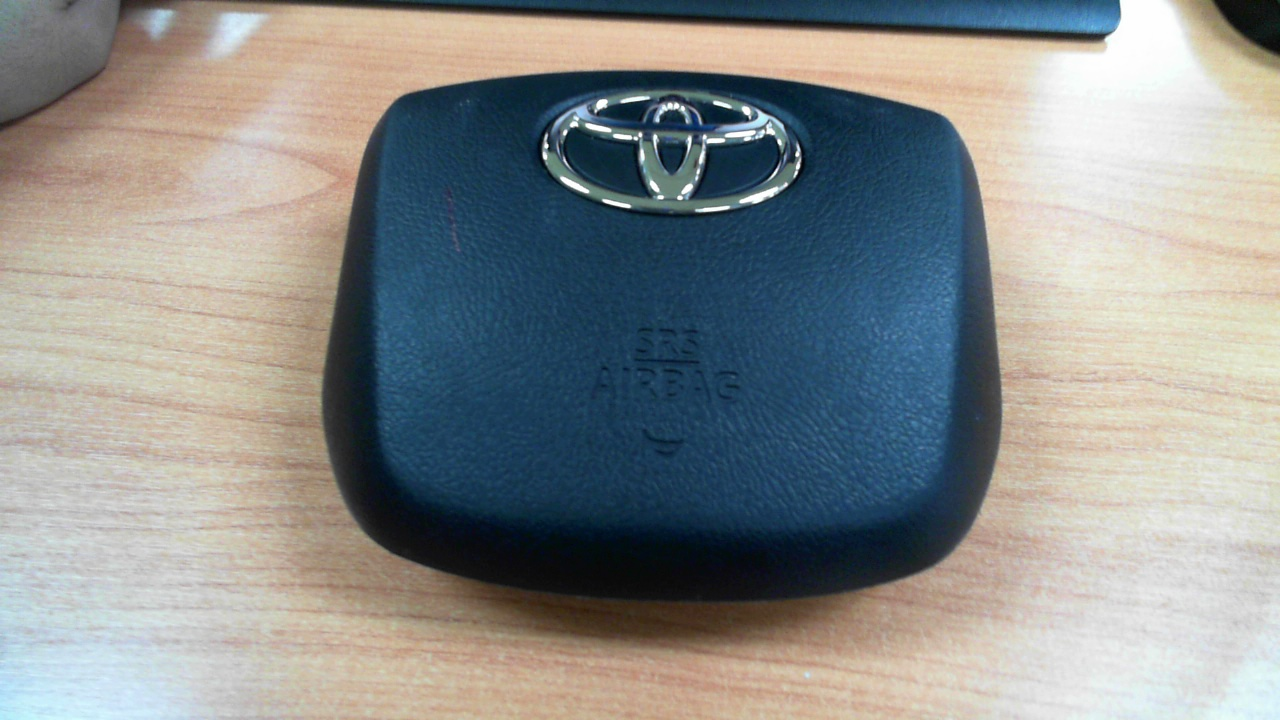Airbag: (327, 67, 1001, 602)
Toyota: (541, 89, 804, 215)
